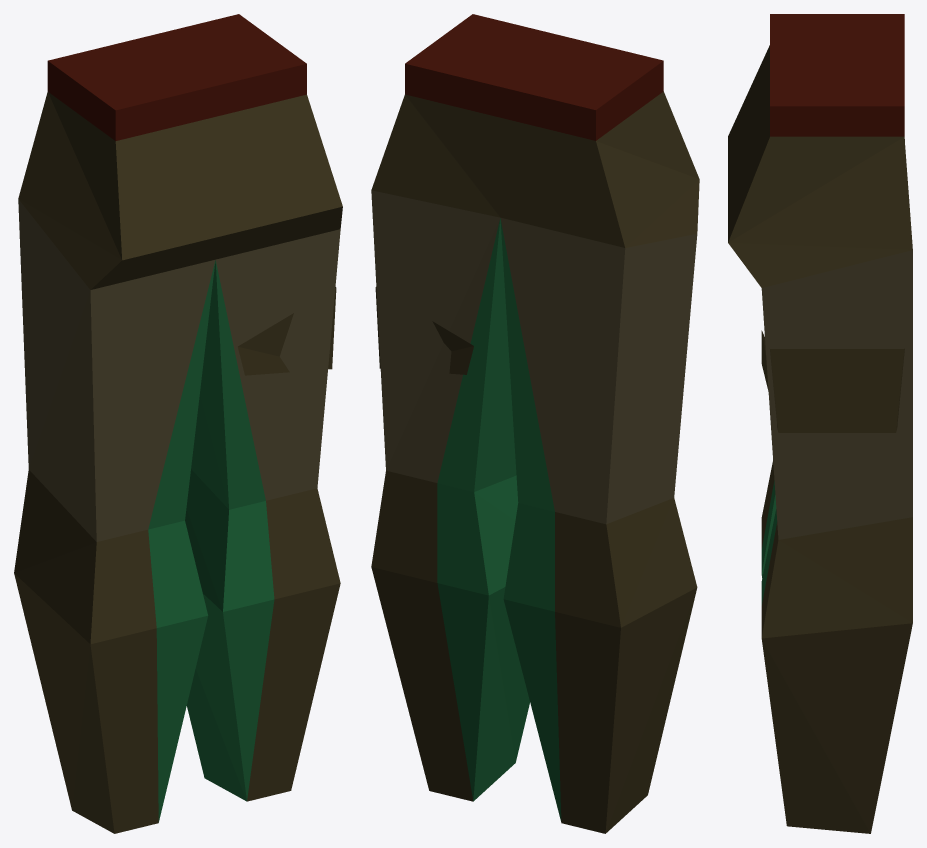
Rendered from npc_world_diango_7.obj.
3 renders of one model, left to right at view 1: azimuth 30°, elevation 25°; view 2: azimuth 150°, elevation 25°; view 3: azimuth 270°, elevation 25°, orthographic.
Size of the model in its own units: 0.2656 by 0.75 by 0.1719.
